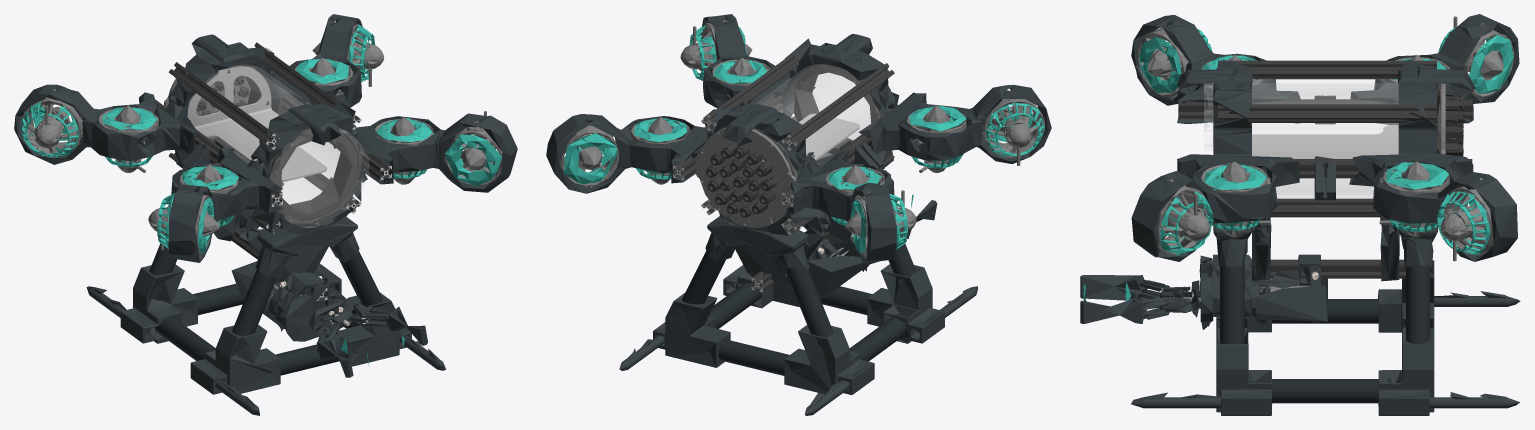
File: rosie.glb
3 views of the same model, side by side, from view 1: azimuth 30°, elevation 25°; view 2: azimuth 150°, elevation 25°; view 3: azimuth 270°, elevation 25° (orthographic). The views are drawn at different scales.
Parts seen in each view (by area): view 1: 2603C020-5, 2601L016-1/2601L004-1, 2601L007-7, 2603C013-2, 2602C013-7, 2602C020-2_c95651, 2601L016-1/2603C053-1, 2601L016-1/2601L006-2, 2602C012-8, 2601L016-1/2603C075-1/2603C041-1; view 2: 2603C020-5, 2601L007-7, 2603C013-2, 2601L016-1/2601L004-1, 2602C013-7, 2602C020-2_c95651, 2601L016-1/2603C075-1/2603C041-1, 2601L016-1/2603C075-1/2603C043-2_8ce095, 2602C012-8, 2601L016-1/2601L006-2, 2601L016-1/2603C053-1, 2602C020-2_449067; view 3: 2603C020-5, 2602C020-2_c95651, 2601L016-1/2601L004-1, 2601L007-7, 2603C013-2, 2602C013-7, 2601L016-1/2603C053-1, 2602C012-8, 2601L016-1/2603C075-1/2603C043-2_8ce095, 2601L016-1/2601L006-2.
Boxes of the visible parts, box(x1,y1,x2,y2) form: 2603C020-5: box(14, 14, 517, 415); 2601L016-1/2601L004-1: box(187, 65, 368, 227); 2601L007-7: box(20, 24, 502, 254); 2603C013-2: box(149, 234, 382, 375); 2602C013-7: box(33, 36, 501, 366); 2602C020-2_c95651: box(155, 42, 391, 300); 2601L016-1/2603C053-1: box(187, 66, 326, 181); 2601L016-1/2601L006-2: box(173, 67, 362, 225); 2602C012-8: box(21, 24, 483, 249); 2601L016-1/2603C075-1/2603C041-1: box(164, 67, 250, 139); 2603C020-5: box(546, 14, 1051, 415); 2601L007-7: box(559, 20, 1044, 255); 2603C013-2: box(682, 234, 915, 375); 2601L016-1/2601L004-1: box(754, 64, 899, 215); 2602C013-7: box(564, 27, 1032, 252); 2602C020-2_c95651: box(673, 54, 894, 291); 2601L016-1/2603C075-1/2603C041-1: box(695, 127, 796, 227); 2601L016-1/2603C075-1/2603C043-2_8ce095: box(705, 143, 777, 217); 2602C012-8: box(564, 25, 1044, 250); 2601L016-1/2601L006-2: box(720, 65, 891, 221); 2601L016-1/2603C053-1: box(799, 113, 859, 160); 2602C020-2_449067: box(673, 115, 796, 292); 2603C020-5: box(1080, 14, 1520, 415); 2602C020-2_c95651: box(1178, 60, 1472, 278); 2601L016-1/2601L004-1: box(1204, 79, 1398, 197); 2601L007-7: box(1137, 16, 1514, 261); 2603C013-2: box(1220, 259, 1430, 403); 2602C013-7: box(1083, 34, 1513, 301); 2601L016-1/2603C053-1: box(1252, 125, 1398, 158); 2602C012-8: box(1160, 28, 1490, 255); 2601L016-1/2603C075-1/2603C043-2_8ce095: box(1445, 96, 1463, 156); 2601L016-1/2601L006-2: box(1213, 83, 1441, 154).
Bounding box in the file's own units: 0.6188 × 0.4412 × 0.5996.
